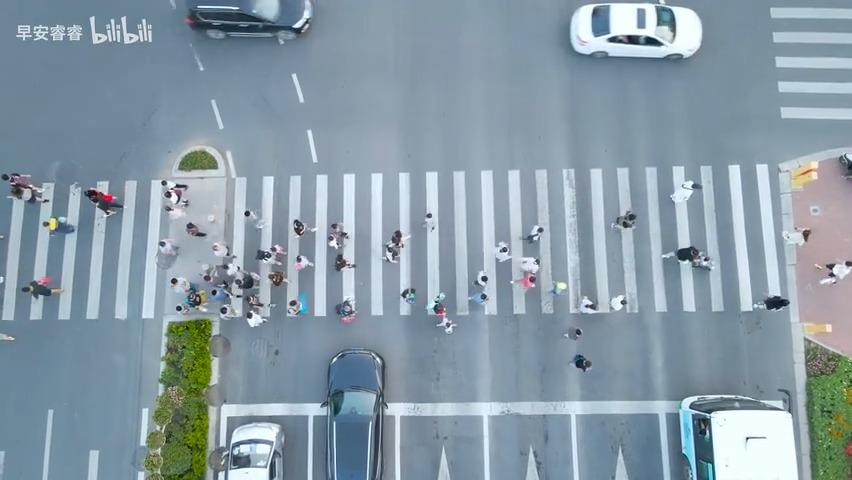Civilian: (156, 174, 190, 220), (0, 172, 49, 203), (660, 245, 714, 270), (83, 187, 127, 217), (814, 259, 851, 285), (382, 229, 410, 263), (21, 279, 64, 299), (330, 295, 359, 324), (668, 179, 702, 203), (290, 250, 317, 277), (575, 291, 603, 317), (469, 285, 496, 310), (242, 310, 269, 334), (513, 268, 541, 291), (323, 220, 347, 246), (151, 232, 178, 255), (329, 251, 356, 274), (760, 293, 788, 315), (42, 216, 74, 235), (781, 226, 811, 246), (255, 239, 281, 262), (164, 302, 191, 324), (608, 291, 634, 313), (264, 269, 292, 289), (491, 239, 515, 262), (233, 267, 258, 289), (610, 210, 637, 230), (470, 267, 497, 287), (185, 219, 207, 243), (206, 283, 228, 306), (244, 208, 266, 231), (434, 313, 455, 337), (292, 218, 317, 237), (396, 285, 421, 304), (567, 353, 591, 372), (550, 274, 567, 300), (520, 224, 543, 243), (286, 299, 309, 318), (244, 291, 268, 309), (201, 264, 220, 286), (218, 303, 237, 325), (517, 251, 539, 269), (838, 152, 851, 178), (224, 257, 240, 277), (421, 212, 436, 232), (173, 271, 187, 291), (563, 327, 582, 340), (216, 239, 227, 258)
